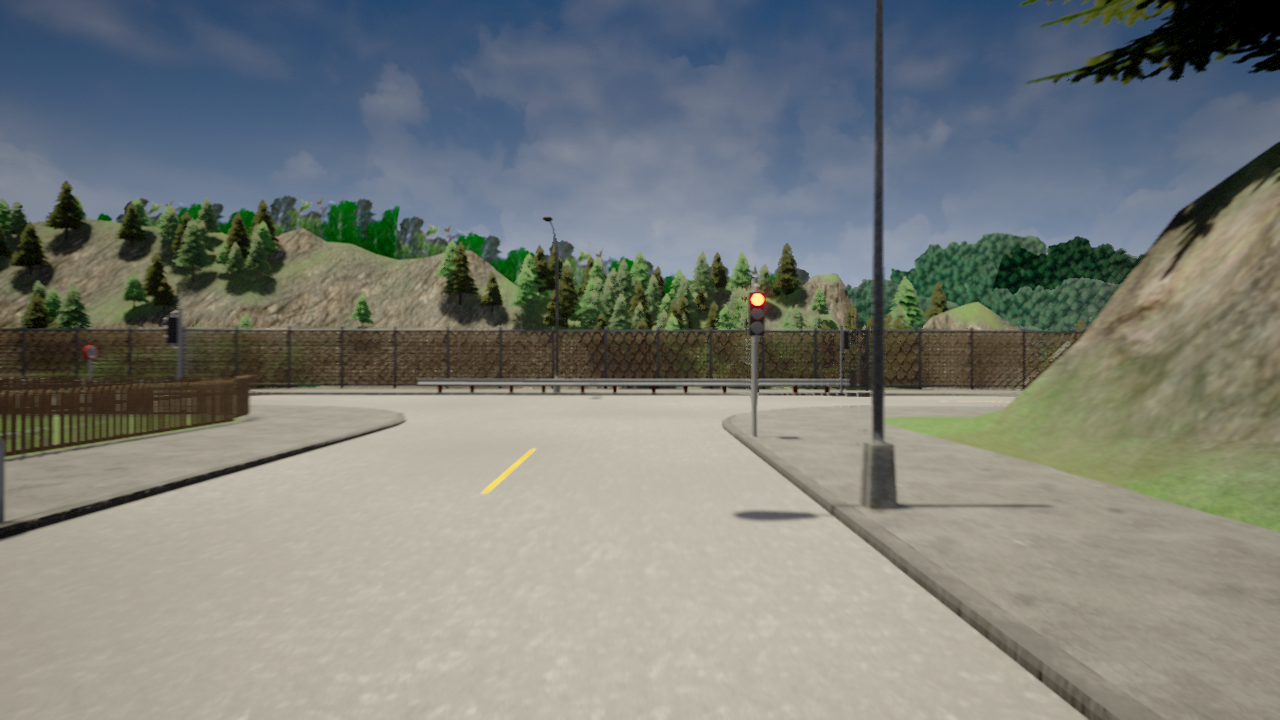red: (748, 290, 766, 337)
